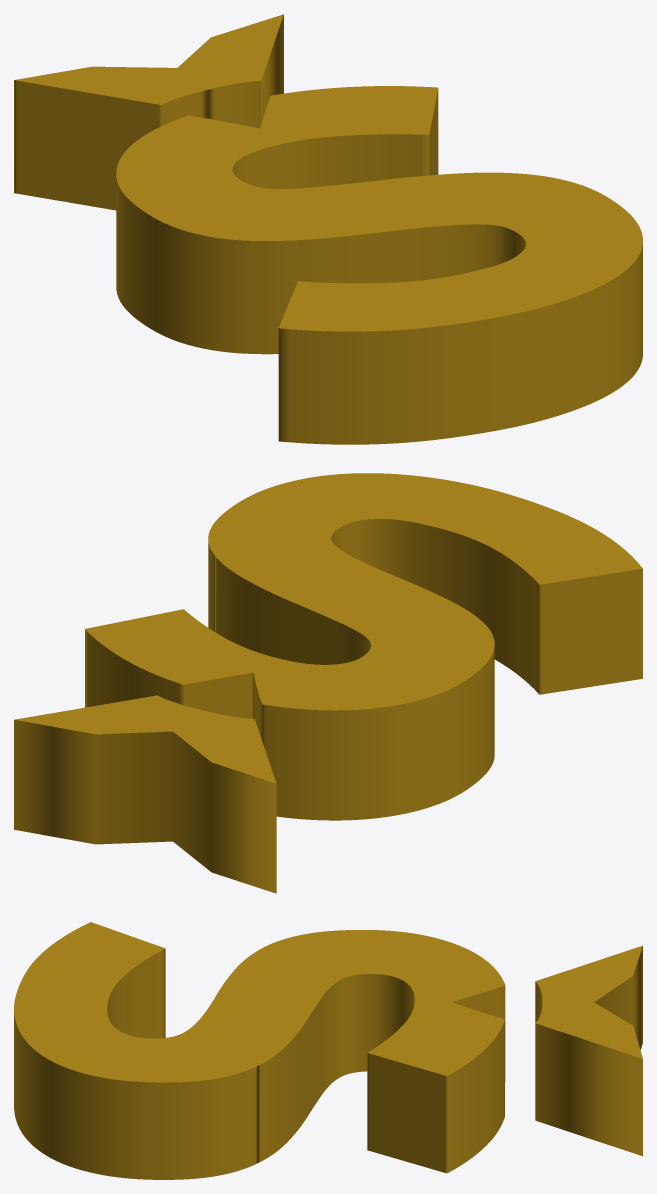
The model's file is SekS.obj.
3 views of the same model, one above another, from view 1: azimuth 30°, elevation 25°; view 2: azimuth 150°, elevation 25°; view 3: azimuth 270°, elevation 25° (orthographic). The views are drawn at different scales.
Visible parts, largest first — view 1: Curve.001; view 2: Curve.001; view 3: Curve.001.
Part boxes in pixels (<box>): Curve.001: <box>14,14,642,444</box>; Curve.001: <box>14,473,642,893</box>; Curve.001: <box>14,922,642,1179</box>.
Size of the model in its own units: 4.81 by 1.36 by 7.97.
